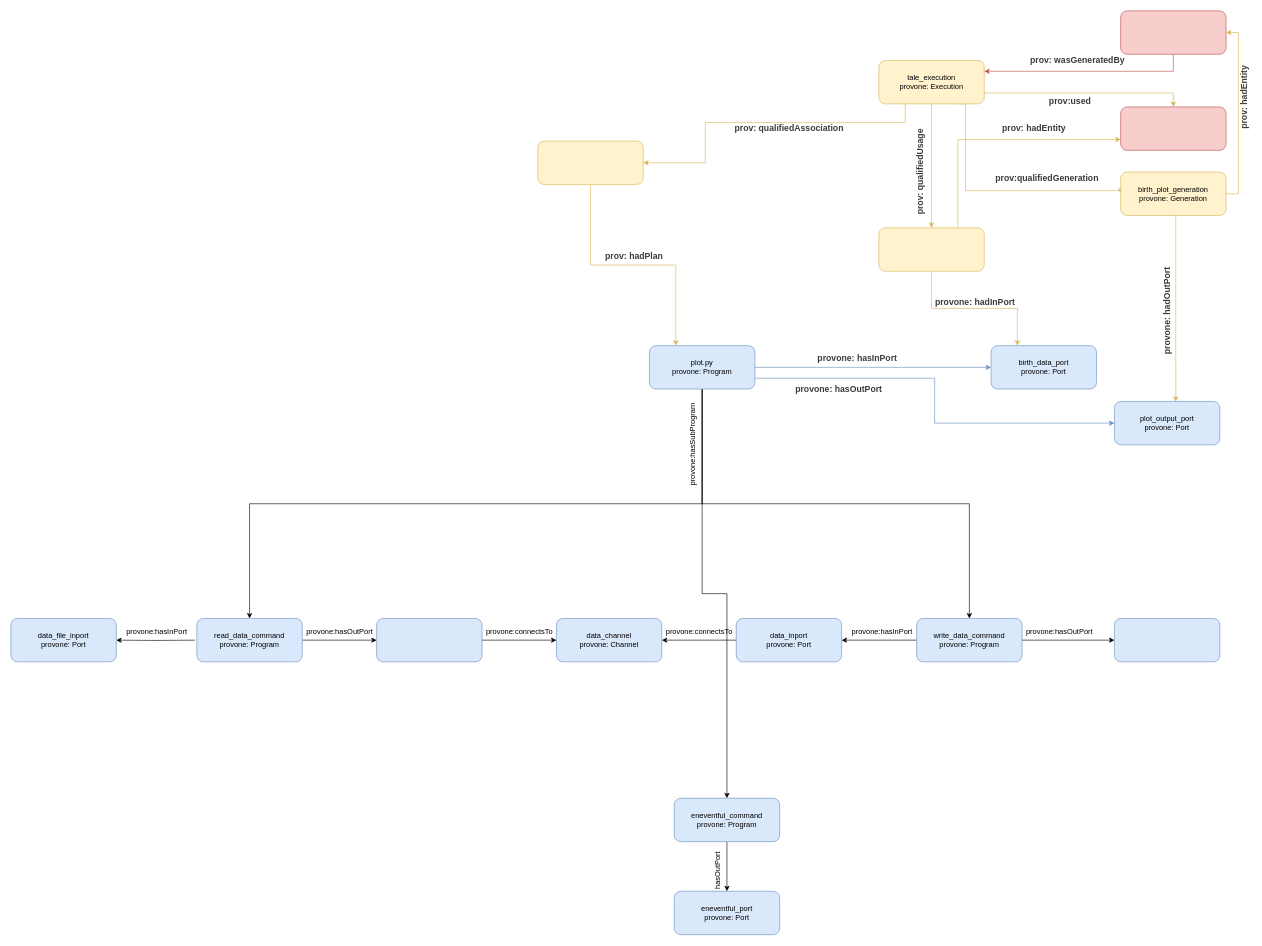
Image size: 1262x946. Some labels were removed from this diagram. The centre of each missing label's shape, as x and y in pixels:
associated_plan provone: Association: the point at 590,162
birth_data_usage provone: Usage: the point at 931,249
daily-total-female-births-CA.csv provone: Data: the point at 1173,128
data_outport provone: Port: the point at 429,640
female-daily-births.png provone: Data: the point at 1173,32
image_outport provone: Port: the point at 1167,640
